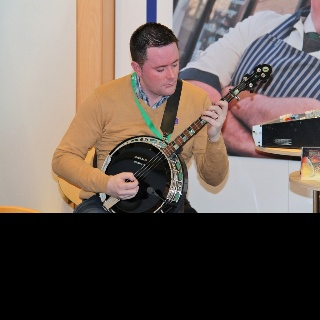without_mask: (142, 41, 179, 97)
